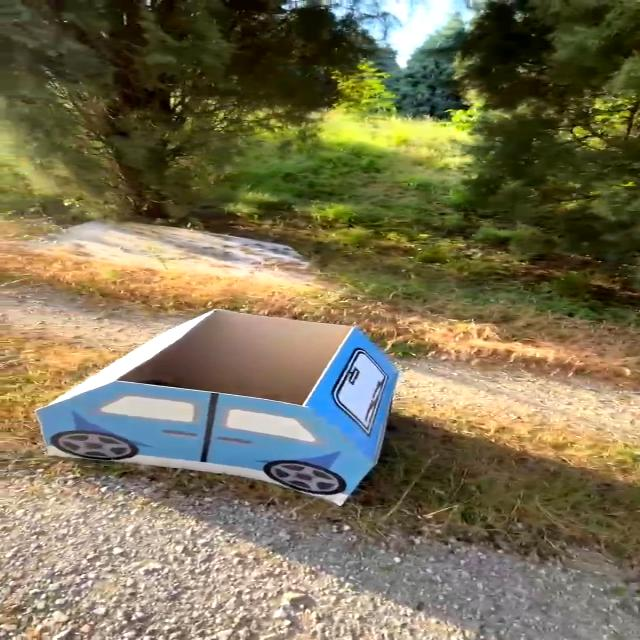blue_car: (20, 272, 466, 530)
